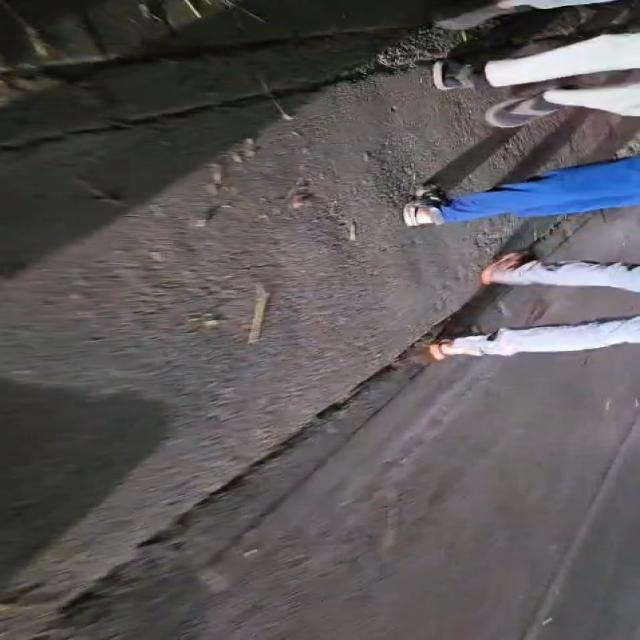person: (404, 157, 639, 226), (433, 34, 639, 90), (429, 317, 639, 359), (436, 0, 610, 30)
